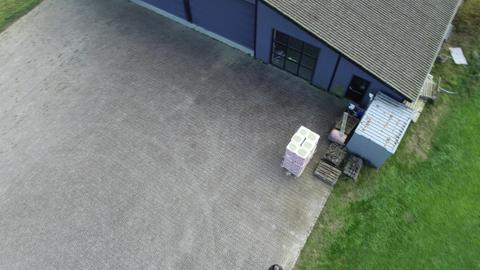RockwoolPallet: (283, 125, 321, 178)
